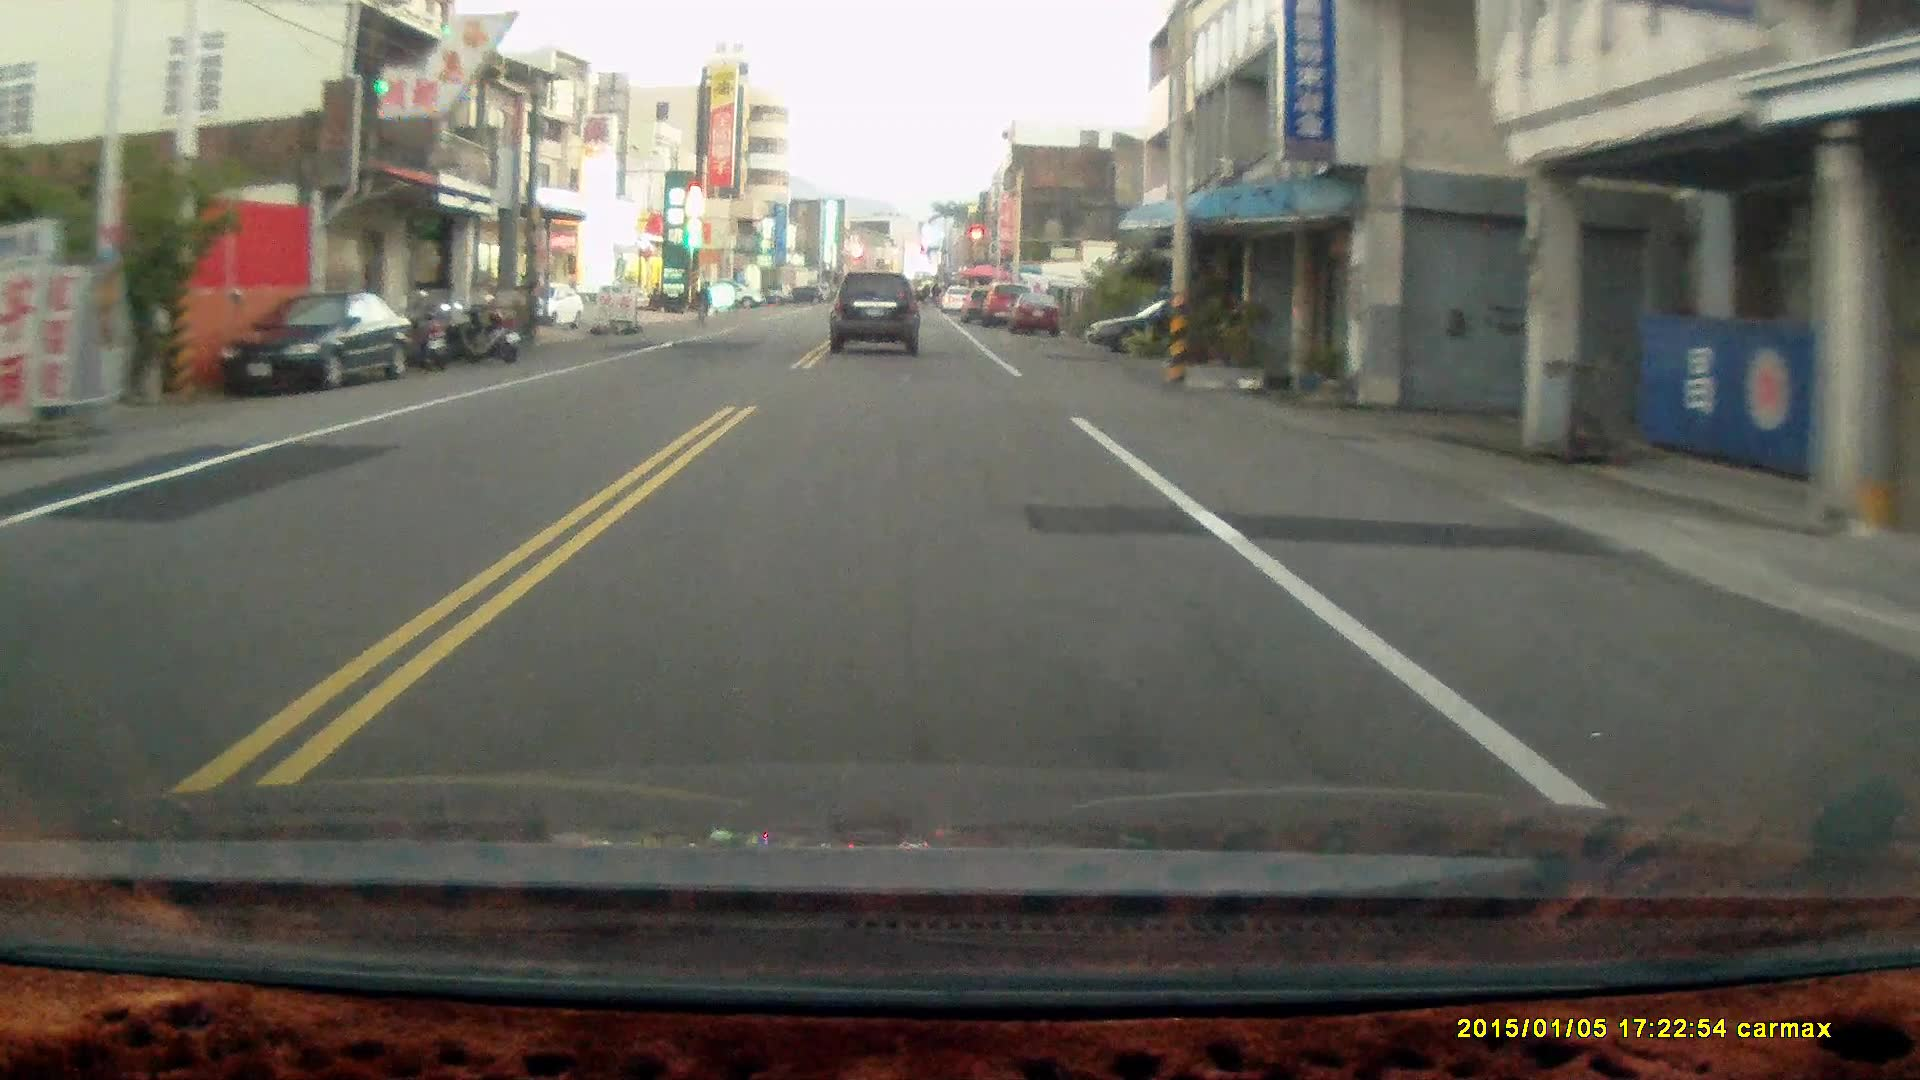rider: (688, 281, 712, 331)
vehicle: (216, 295, 413, 398), (830, 272, 922, 361)
